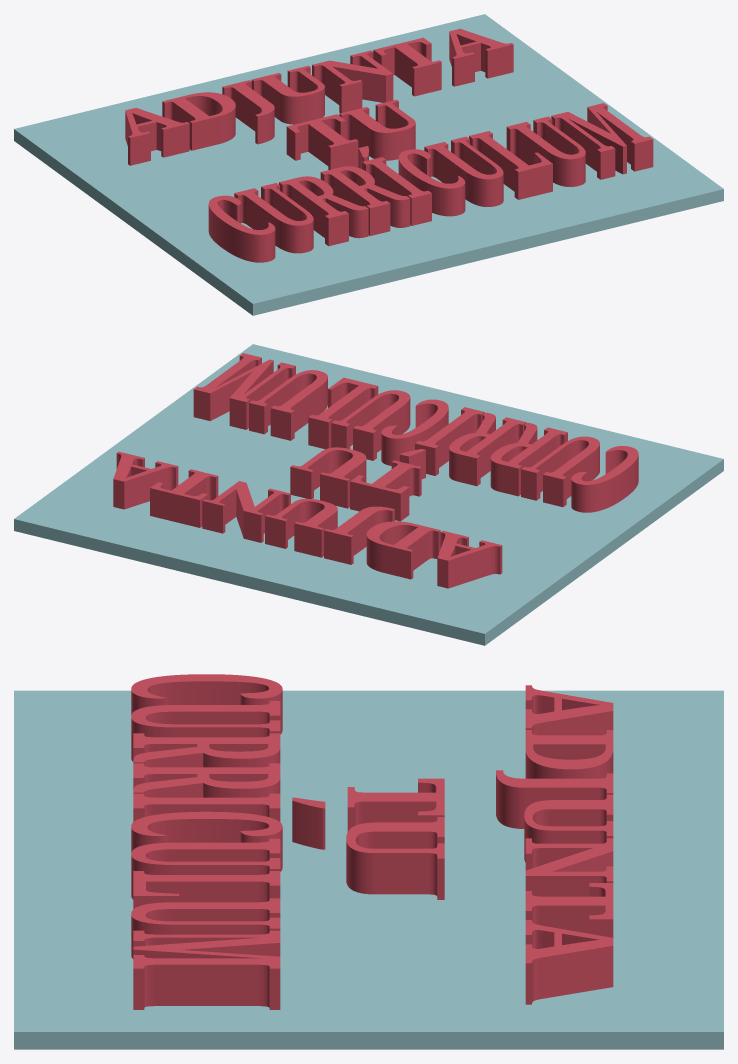
Rendered from asset.glb.
3 views of the same model, one above another, from view 1: azimuth 30°, elevation 25°; view 2: azimuth 150°, elevation 25°; view 3: azimuth 270°, elevation 25° (orthographic). The views are drawn at different scales.
Parts seen in each view (by area): view 1: Mesh_Mesh_head_geo.001_lambert2SG.001; view 2: Mesh_Mesh_head_geo.001_lambert2SG.001; view 3: Mesh_Mesh_head_geo.001_lambert2SG.001.
Part boxes in pixels (x1=…): Mesh_Mesh_head_geo.001_lambert2SG.001: x1=14, y1=14, x2=723, y2=315; Mesh_Mesh_head_geo.001_lambert2SG.001: x1=14, y1=344, x2=723, y2=645; Mesh_Mesh_head_geo.001_lambert2SG.001: x1=14, y1=674, x2=723, y2=1049.
Bounding box in the file's own units: 124 × 10 × 109.
